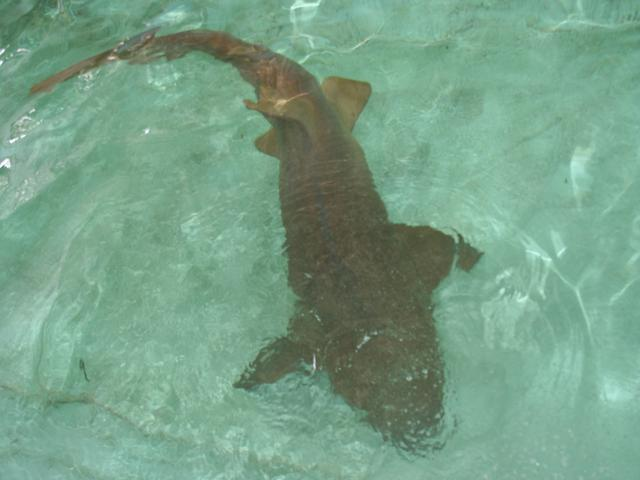fish: (109, 98, 545, 432)
